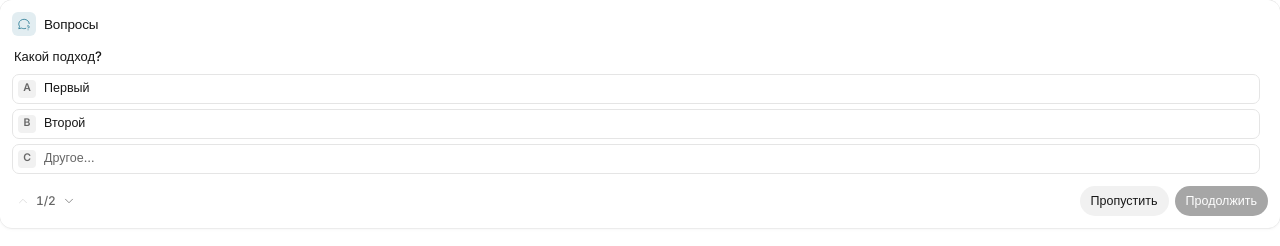
ApprovalCard — questions variant › records an option click and auto-advances to the next question after 320ms
This screenshot has width=1280, height=246.
Expected: the element named "Вопрос 1 из 2" is shown, [14, 192, 78, 210]
What coordinates should you click on to do the following:
click the radio button labelled "A Первый"
I would click on:
 (67, 88)
Its box is [12, 74, 1260, 104].
Wait 320 ms
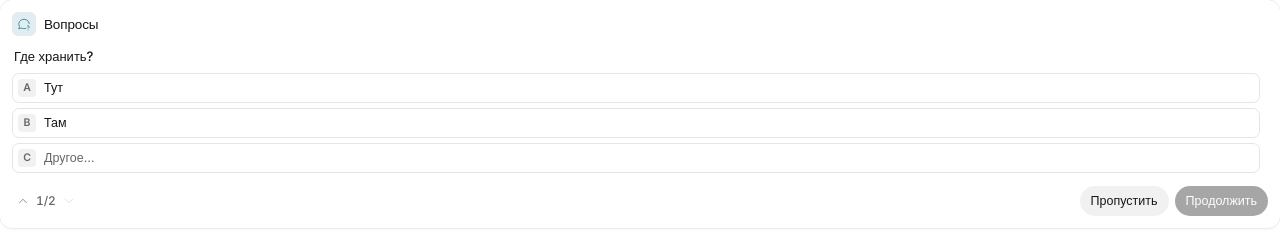
Expected: the element named "Вопрос 2 из 2" is shown, [14, 192, 78, 210]
